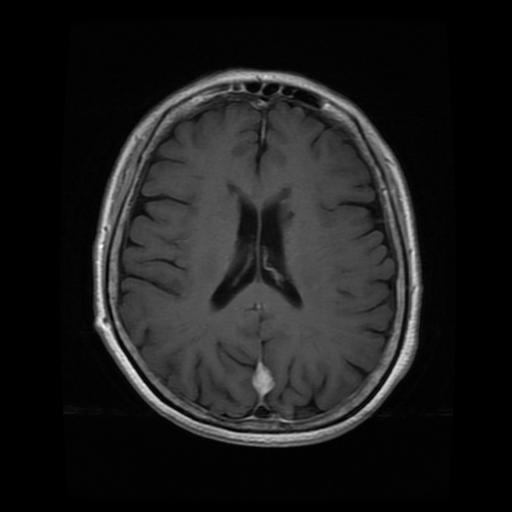Menigiomia_tumour: (253, 360, 273, 393)
